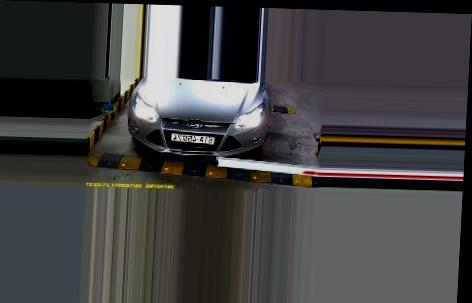License_Plate: (168, 130, 217, 146)
